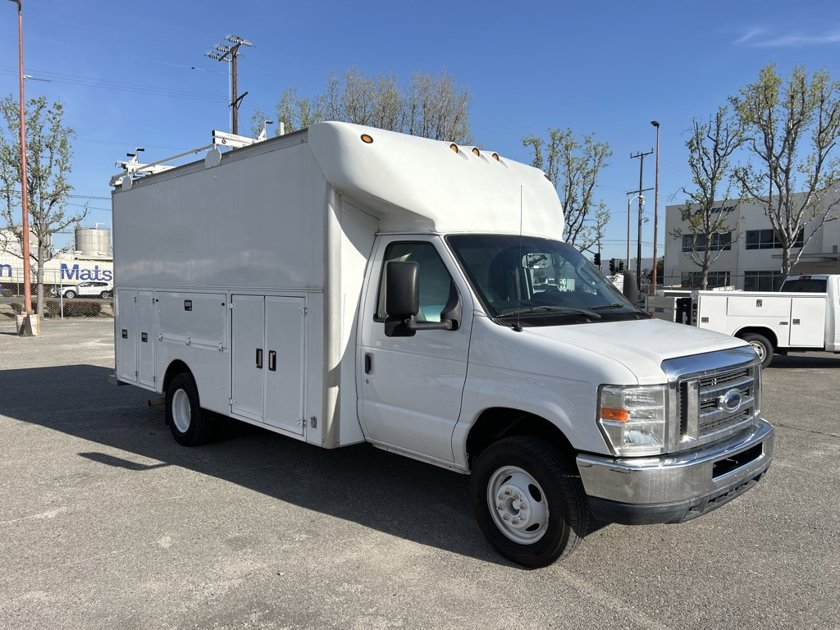car: (97, 116, 779, 574), (640, 256, 840, 375), (48, 274, 116, 311)
